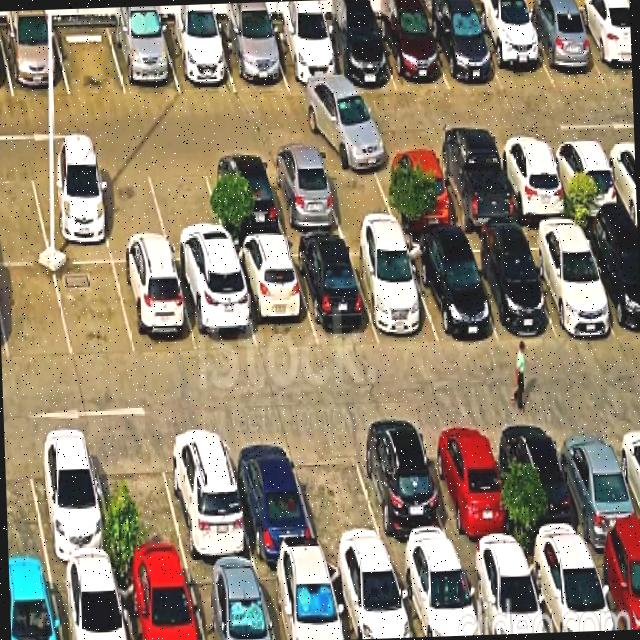empty: (287, 429, 387, 557), (91, 434, 187, 566), (145, 157, 229, 260), (91, 161, 171, 262), (54, 262, 135, 358), (0, 265, 71, 361), (316, 151, 397, 231), (4, 436, 47, 569), (53, 23, 125, 95), (0, 163, 50, 263)
occupied: (349, 424, 456, 558), (419, 421, 518, 554), (158, 428, 254, 563), (223, 431, 319, 560), (495, 418, 588, 550), (24, 435, 116, 567), (551, 417, 640, 546), (521, 226, 617, 335), (459, 235, 554, 339), (403, 238, 497, 343), (230, 242, 317, 352), (346, 239, 438, 342), (289, 239, 378, 345), (29, 163, 112, 263), (113, 262, 197, 356), (524, 547, 614, 632), (173, 261, 257, 352), (431, 145, 517, 230), (458, 553, 547, 635), (391, 556, 481, 637), (202, 155, 285, 240), (579, 225, 640, 339), (256, 561, 344, 640), (325, 561, 412, 639), (262, 153, 343, 236), (185, 565, 274, 640), (374, 148, 457, 228), (472, 12, 554, 92), (520, 12, 606, 88), (116, 566, 203, 640), (493, 141, 572, 222), (547, 139, 625, 217), (374, 12, 449, 92), (425, 13, 502, 90), (50, 568, 131, 640), (319, 18, 396, 90), (160, 23, 235, 94), (107, 23, 180, 95), (266, 23, 341, 90), (0, 25, 69, 97), (217, 24, 287, 92), (588, 542, 640, 630), (573, 10, 632, 86), (9, 570, 61, 640), (0, 38, 13, 96)
